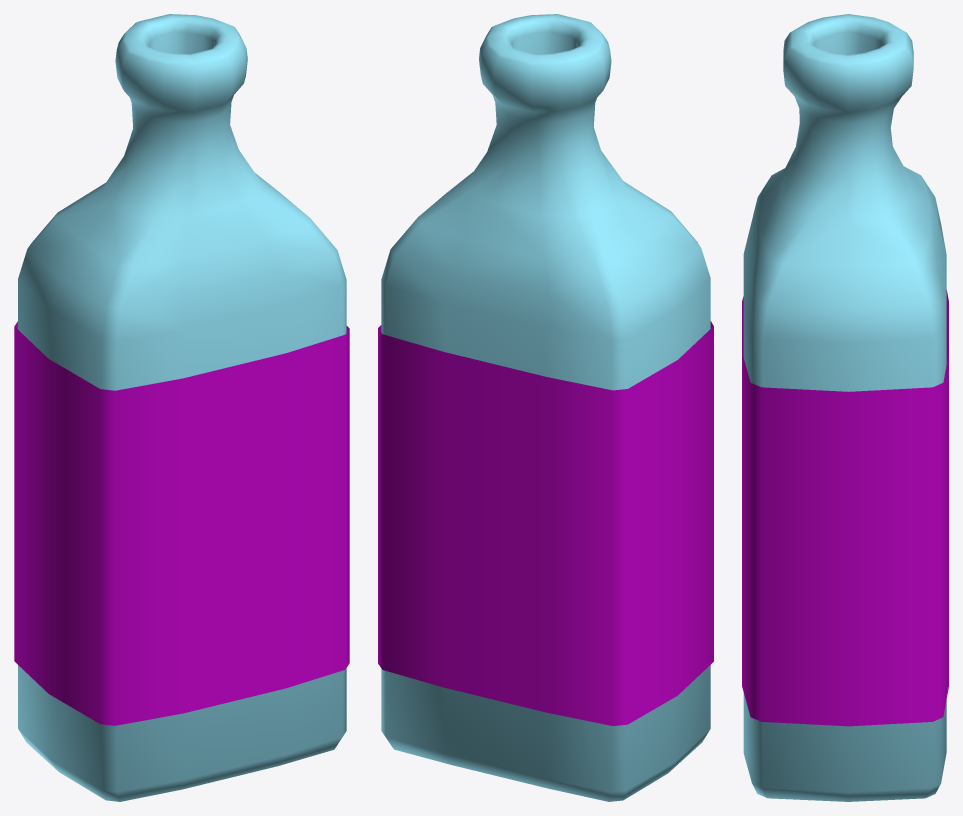
Rendered from SM_Bouteille_01.FBX.
3 renders of one model, left to right at view 1: azimuth 30°, elevation 25°; view 2: azimuth 150°, elevation 25°; view 3: azimuth 270°, elevation 25°, orthographic.
Visible parts, largest first — view 1: Bouteille; view 2: Bouteille; view 3: Bouteille.
Boxes of the visible parts, x1,y1,x2,y2 form: Bouteille: (14, 14, 349, 801); Bouteille: (378, 14, 713, 801); Bouteille: (742, 14, 948, 801).
Size of the model in its own units: 10.27 by 26.25 by 6.93.
